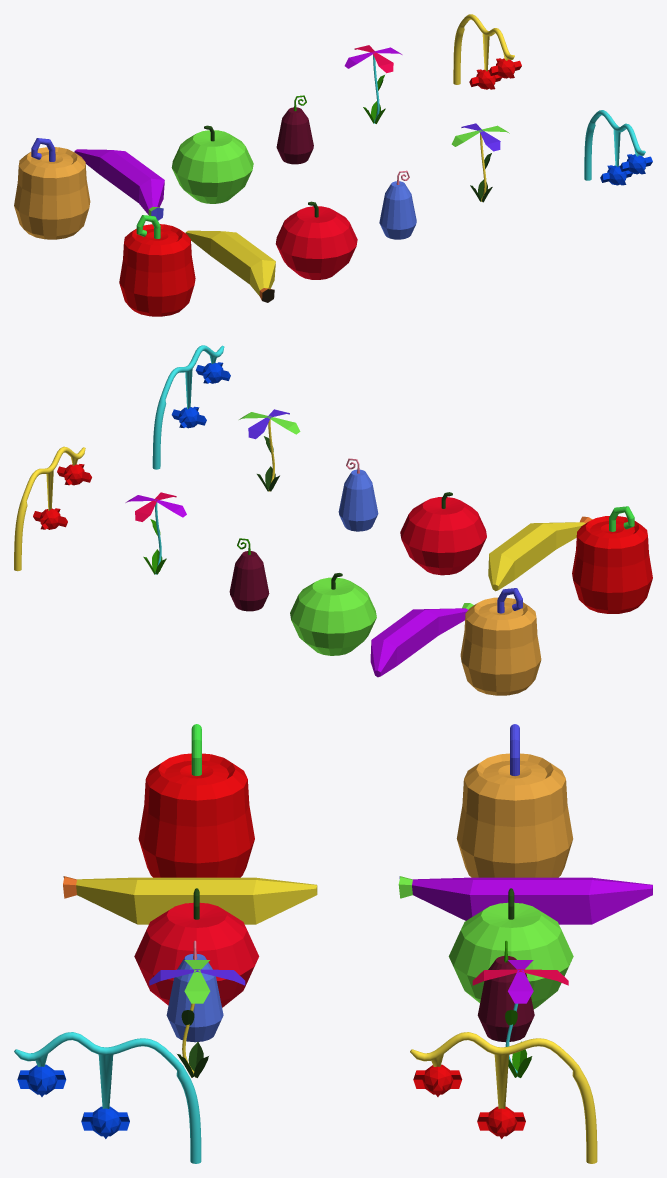
File: uploads_files_3620736_асетпак1.fbx
The picture shows the model from 3 angles, top to bottom: view 1: azimuth 30°, elevation 25°; view 2: azimuth 150°, elevation 25°; view 3: azimuth 270°, elevation 25°; orthographic projection. The views are drawn at different scales.
Visible parts, largest first — view 1: papper1, papper2, apple1, apple2, banana2, banana1, flower1, flower2, eggplant2, eggplant, flower4, flower3; view 2: papper2, papper1, apple1, apple2, banana1, banana2, flower1, flower2, eggplant2, eggplant, flower3, flower4; view 3: papper1, papper2, banana1, banana2, apple2, apple1, flower1, flower2, eggplant2, eggplant, flower3, flower4.
Boxes of the visible parts, box(x1,y1,x2,y2) form: papper1: box(119, 215, 195, 316); papper2: box(14, 138, 90, 239); apple1: box(275, 201, 357, 279); apple2: box(171, 125, 253, 203); banana2: box(185, 230, 275, 302); banana1: box(74, 149, 164, 220); flower1: box(584, 110, 652, 185); flower2: box(453, 14, 521, 89); eggplant2: box(379, 170, 416, 239); eggplant: box(276, 95, 313, 164); flower4: box(344, 45, 402, 123); flower3: box(451, 123, 509, 202); papper2: box(460, 588, 541, 695); papper1: box(572, 506, 652, 613); apple1: box(400, 492, 486, 575); apple2: box(290, 573, 376, 655); banana1: box(370, 603, 473, 677); banana2: box(488, 516, 592, 591); flower1: box(152, 345, 230, 469); flower2: box(14, 446, 91, 571); eggplant2: box(338, 458, 378, 531); eggplant: box(229, 538, 269, 611); flower3: box(239, 409, 300, 491); flower4: box(125, 492, 186, 574); papper1: box(138, 724, 254, 877); papper2: box(456, 724, 573, 877); banana1: box(398, 876, 652, 924); banana2: box(63, 876, 317, 924); apple2: box(448, 888, 573, 1009); apple1: box(134, 888, 259, 1007); flower1: box(14, 1032, 201, 1163); flower2: box(410, 1032, 597, 1163); eggplant2: box(166, 940, 223, 1042); eggplant: box(477, 940, 534, 1042); flower3: box(149, 960, 245, 1077); flower4: box(472, 960, 568, 1077).
Size of the model in its own units: 1432 by 320 by 1097.
